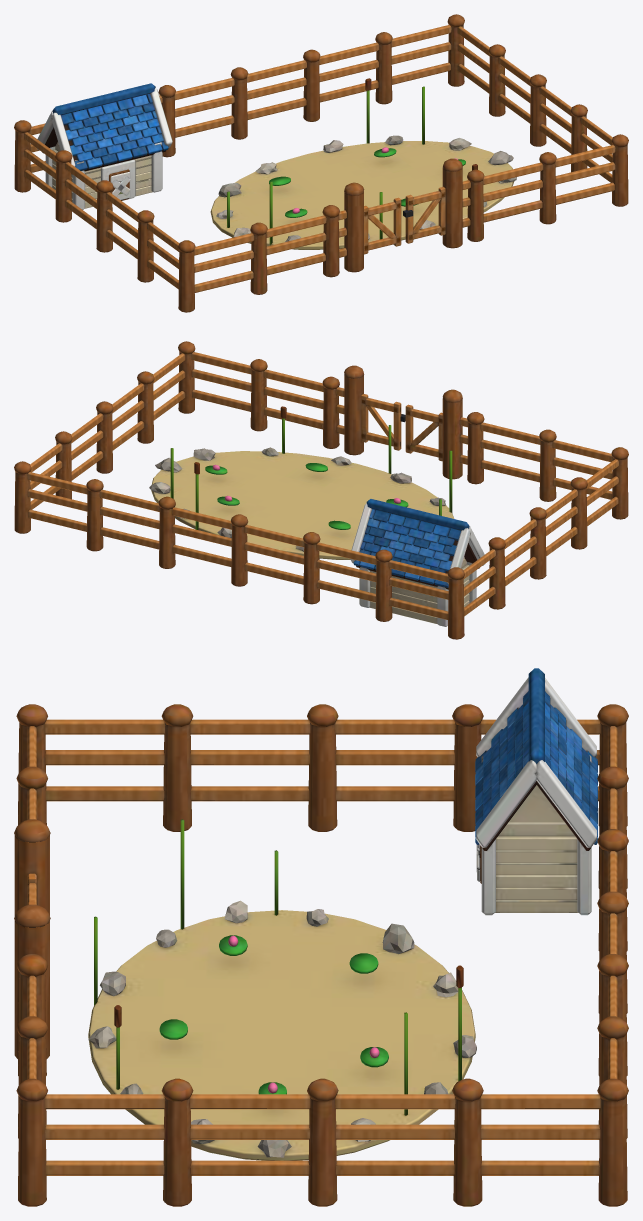
File: duck_pond.glb
The picture shows the model from 3 angles, top to bottom: view 1: azimuth 30°, elevation 25°; view 2: azimuth 150°, elevation 25°; view 3: azimuth 270°, elevation 25°; orthographic projection. The views are drawn at different scales.
Parts seen in each view (by area): view 1: duck_pond, gate1, gate0; view 2: duck_pond, gate1, gate0; view 3: duck_pond.
Part boxes in pixels (x1,y1,x2,y2): duck_pond: (14, 14, 628, 312); gate1: (403, 186, 445, 243); gate0: (364, 197, 401, 254); duck_pond: (14, 341, 628, 639); gate1: (361, 393, 405, 450); gate0: (405, 404, 442, 461); duck_pond: (14, 668, 628, 1206).
Size of the model in its own units: 3 by 0.615 by 2.01.
1 material, 1 textured.
